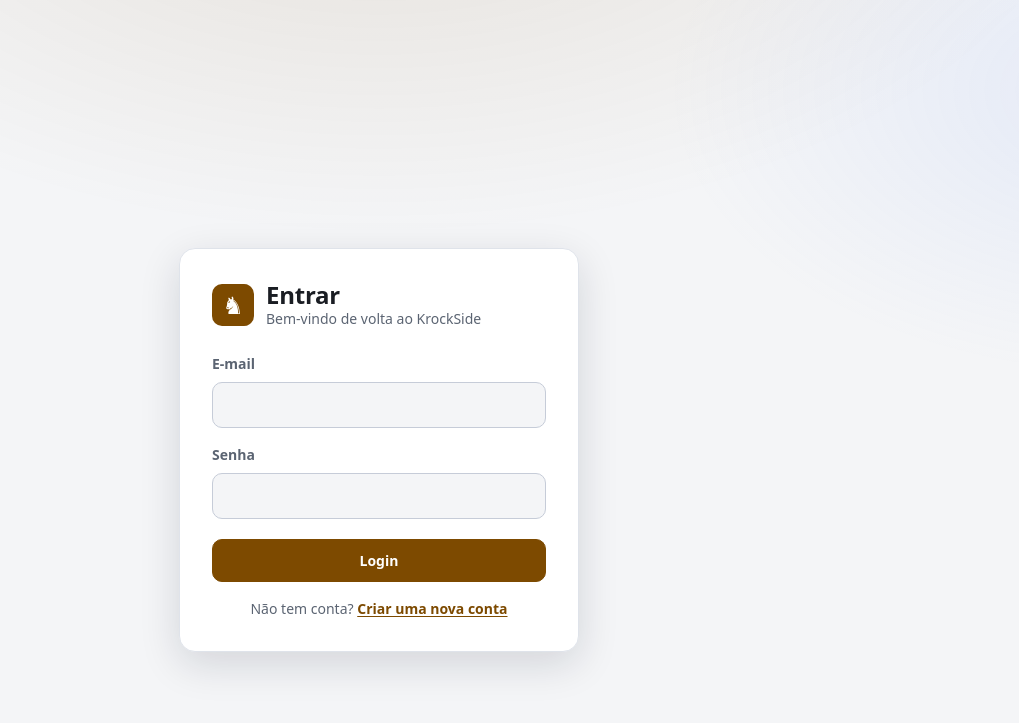
Auth integration (MSW) › login with wrong password shows error
Type "a@b.com" into the field labelled "E-mail" at x=379, y=405, box [212, 382, 546, 428]
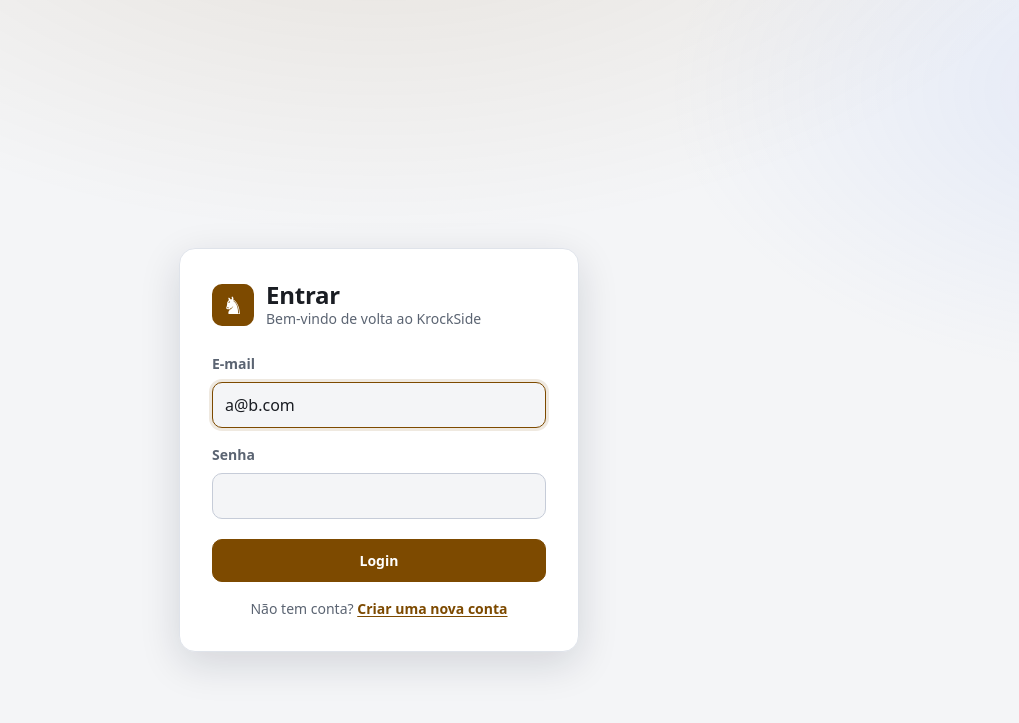
Type "wrong" into the password field labelled "Senha" at x=379, y=496, box [212, 473, 546, 519]
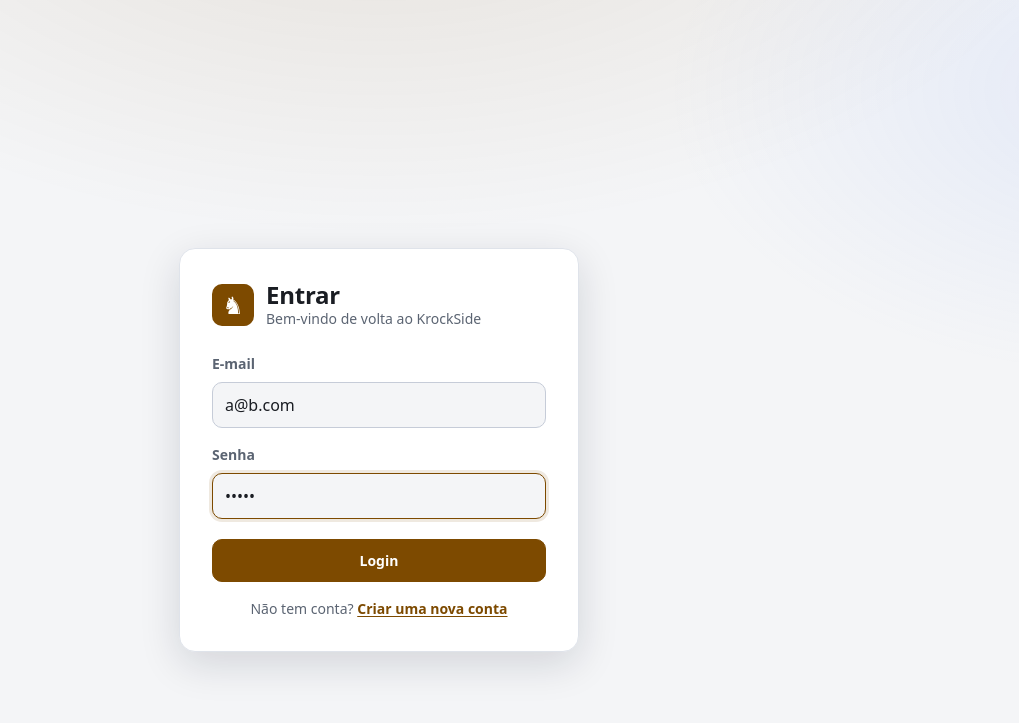
Click the button "Login" at x=379, y=561, box [212, 539, 546, 582]
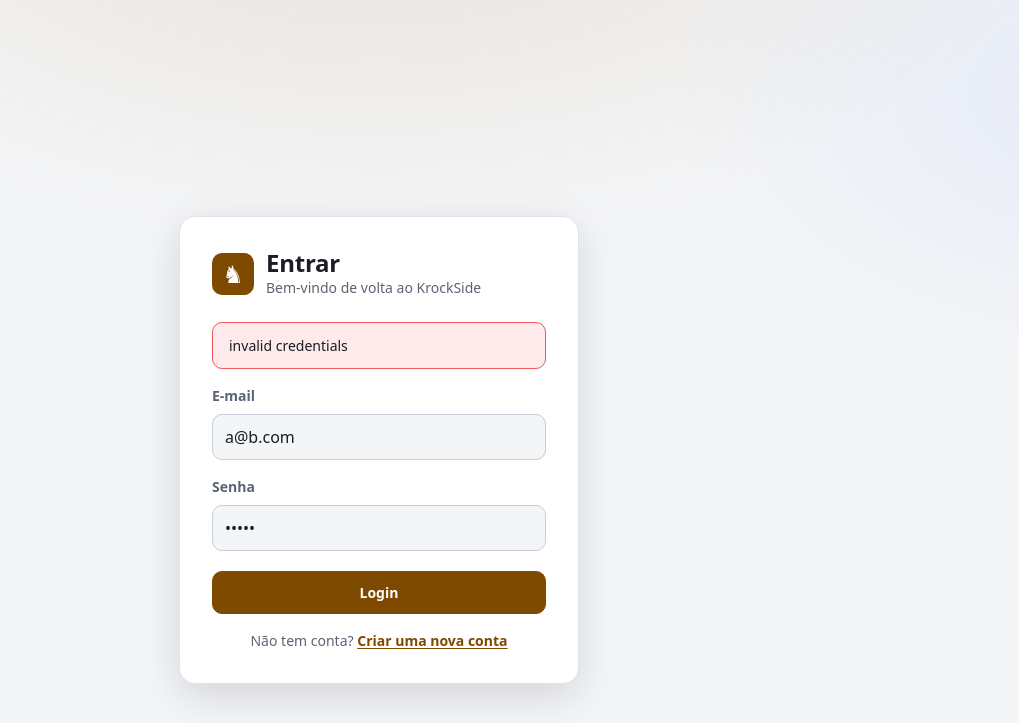
Now the message reads "invalid credentials", box [229, 336, 348, 355]
